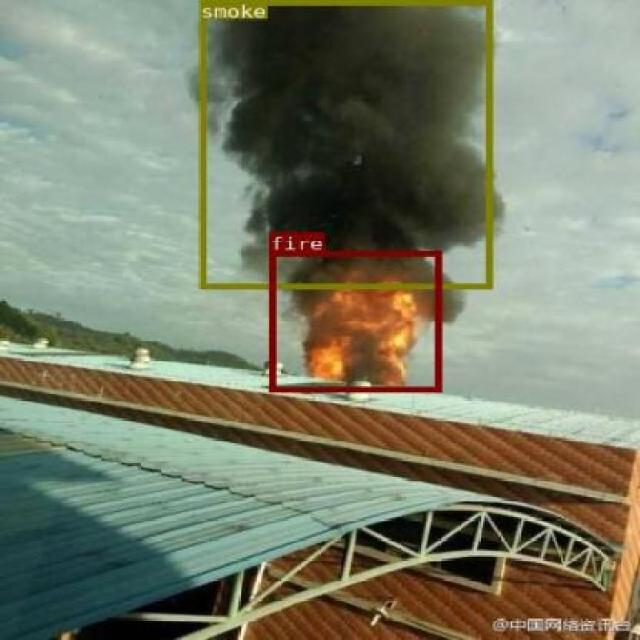Fire: (269, 250, 440, 392)
Smoke: (198, 0, 492, 288)
